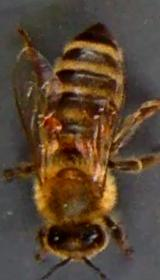varroa_mite: (38, 110, 63, 136)
